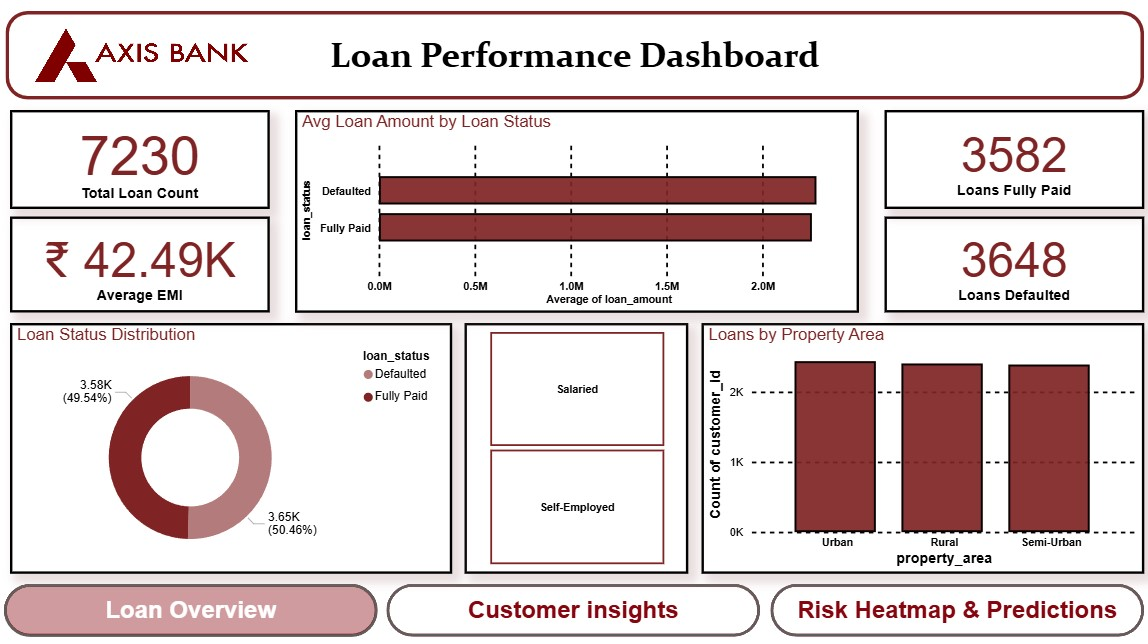

This screenshot's page, from the dashboard's own definition file:
{"tool":"powerbi","page":{"name":"Loan Overview","canvas":[1280,720],"ordinal":0},"visuals":[{"type":"shape","box":[8.3,13.3,1265,98.3],"z":0},{"type":"shape","box":[6.7,650,415,58.3],"z":1000},{"type":"shape","box":[431.7,650,415,58.3],"z":2000},{"type":"shape","box":[858.3,650,415,58.3],"z":3000},{"type":"actionButton","box":[6.4,650.6,415.1,58.9],"z":4000},{"type":"actionButton","box":[858.3,650,415,58.3],"z":5000},{"type":"actionButton","box":[431.7,650,415,58.3],"z":6000},{"type":"card","fields":{"Values":["Default_loan_prediction.Total Loan Count"]},"box":[13.3,123.3,288.3,110],"z":7000},{"type":"card","fields":{"Values":["Default_loan_prediction.Average EMI"]},"box":[13.3,241.7,288.3,106.7],"z":8000},{"type":"slicer","fields":{"Values":["Default_loan_prediction.employment_type"]},"box":[518.3,360,248.3,278.3],"z":9000},{"type":"card","fields":{"Values":["CountNonNull(Default_loan_prediction.loan_status)"]},"box":[985,123.3,288.3,110],"z":10000},{"type":"card","fields":{"Values":["CountNonNull(Default_loan_prediction.loan_status)"]},"box":[985,241.7,288.3,106.7],"z":11000},{"type":"donutChart","title":"Loan Status Distribution","fields":{"Category":["Default_loan_prediction.loan_status"],"Y":["CountNonNull(Default_loan_prediction.customer_id)"]},"box":[12.7,359.5,491.5,278.4],"z":12000},{"type":"clusteredColumnChart","title":"Loans by Property Area","fields":{"Category":["Default_loan_prediction.property_area"],"Y":["CountNonNull(Default_loan_prediction.customer_id)"]},"box":[781.7,360,491.7,278.3],"z":13000},{"type":"barChart","title":"Avg Loan Amount by Loan Status","fields":{"Category":["Default_loan_prediction.loan_status"],"Y":["Avg(Default_loan_prediction.loan_amount)"]},"box":[330,123.3,626.7,225],"z":14000},{"type":"image","box":[0,13.3,318.3,98.3],"z":15000}]}

Visuals, with their boxes in screenshot pixels (x1, y1, x2, y2), scaled from the page's 1280x720 canvas onto the 1148x644 screenshot:
shape: 7, 12, 1142, 100
shape: 6, 581, 378, 634
shape: 387, 581, 759, 634
shape: 770, 581, 1142, 634
actionButton: 6, 582, 378, 635
actionButton: 770, 581, 1142, 634
actionButton: 387, 581, 759, 634
card - Default_loan_prediction.Total Loan Count: 12, 110, 270, 209
card - Default_loan_prediction.Average EMI: 12, 216, 270, 312
slicer - Default_loan_prediction.employment_type: 465, 322, 688, 571
card - CountNonNull(Default_loan_prediction.loan_status): 883, 110, 1142, 209
card - CountNonNull(Default_loan_prediction.loan_status): 883, 216, 1142, 312
"Loan Status Distribution" donutChart: 11, 322, 452, 571
"Loans by Property Area" clusteredColumnChart: 701, 322, 1142, 571
"Avg Loan Amount by Loan Status" barChart: 296, 110, 858, 312
image: 0, 12, 285, 100
